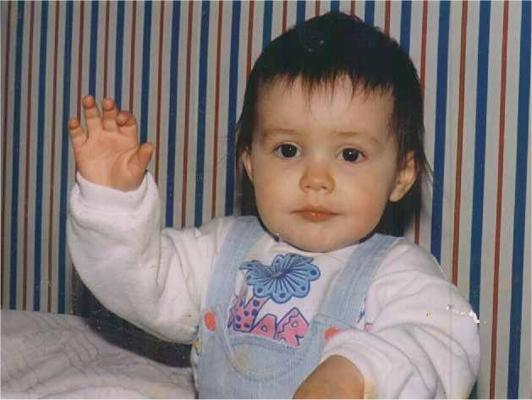person: (65, 12, 480, 400)
